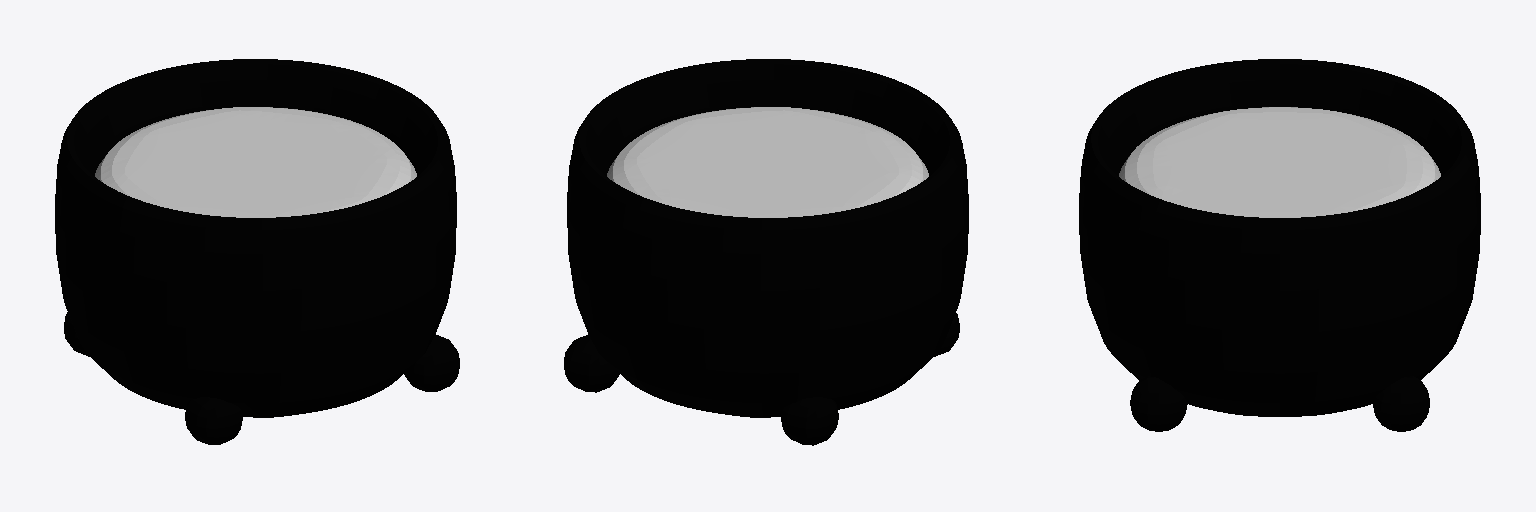
File: Cauldron.obj
3 views of the same model, side by side, from view 1: azimuth 30°, elevation 25°; view 2: azimuth 150°, elevation 25°; view 3: azimuth 270°, elevation 25° (orthographic).
Visible parts, largest first — view 1: Cylinder; view 2: Cylinder; view 3: Cylinder.
Boxes of the visible parts, box(x1,y1,x2,y2) form: Cylinder: box(55, 59, 459, 444); Cylinder: box(564, 59, 968, 445); Cylinder: box(1079, 59, 1480, 431).
Size of the model in its own units: 1.93 by 1.24 by 1.93.